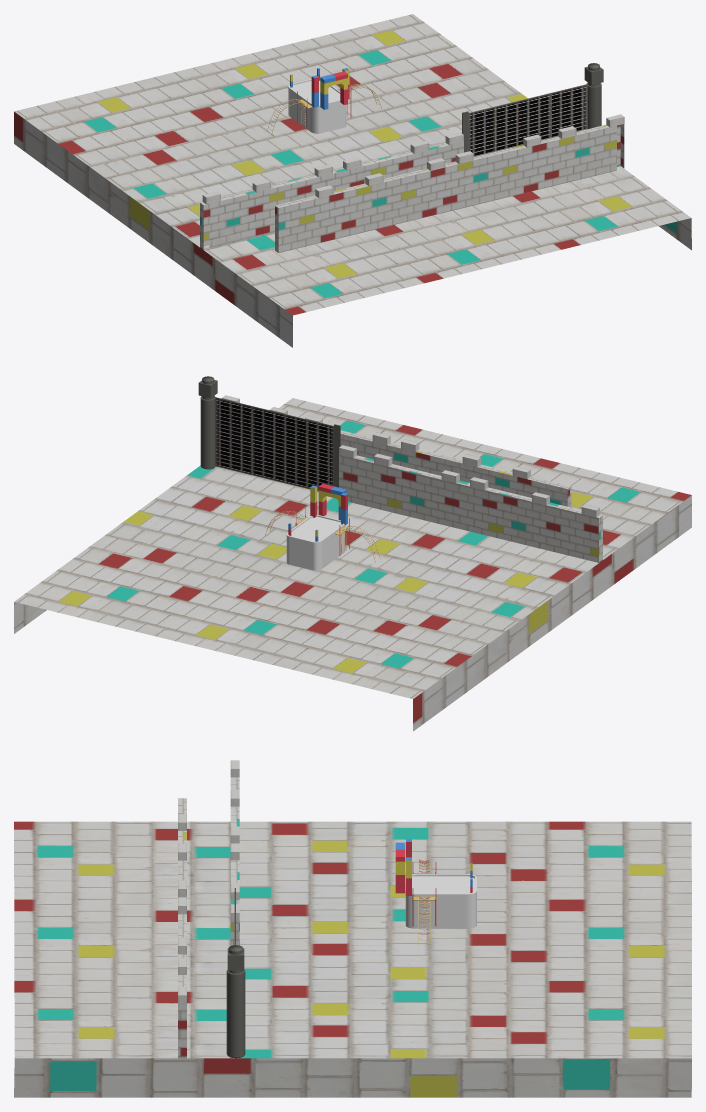
Rendered from san.fbx.
3 renders of one model, top to bottom at view 1: azimuth 30°, elevation 25°; view 2: azimuth 150°, elevation 25°; view 3: azimuth 270°, elevation 25°, orthographic. The views are drawn at different scales.
Parts seen in each view (by area): view 1: phong, tuong nho, cua sat, Combined Mesh (root_ scene) 2, cot cua, Cube, thang; view 2: phong, tuong nho, cua sat, Combined Mesh (root_ scene) 2, cot cua, thang, Cube; view 3: phong, tuong nho, Combined Mesh (root_ scene) 2, cot cua, thang, Cube.
Part boxes in pixels (x1=…): phong: x1=14, y1=14, x2=691, y2=347; tuong nho: x1=200, y1=114, x2=624, y2=252; cua sat: x1=462, y1=84, x2=587, y2=156; Combined Mesh (root_ scene) 2: x1=288, y1=78, x2=346, y2=133; cot cua: x1=584, y1=63, x2=603, y2=128; Cube: x1=320, y1=71, x2=347, y2=109; thang: x1=266, y1=84, x2=381, y2=135; phong: x1=14, y1=398, x2=691, y2=731; tuong nho: x1=221, y1=395, x2=602, y2=562; cua sat: x1=215, y1=397, x2=340, y2=491; Combined Mesh (root_ scene) 2: x1=286, y1=515, x2=344, y2=570; cot cua: x1=198, y1=376, x2=217, y2=469; thang: x1=265, y1=507, x2=380, y2=562; Cube: x1=318, y1=483, x2=346, y2=520; phong: x1=14, y1=821, x2=691, y2=1097; tuong nho: x1=178, y1=760, x2=239, y2=1058; Combined Mesh (root_ scene) 2: x1=405, y1=874, x2=476, y2=928; cot cua: x1=226, y1=945, x2=245, y2=1058; thang: x1=412, y1=859, x2=436, y2=945; Cube: x1=395, y1=842, x2=405, y2=893.
Size of the model in its own units: 3463 by 992 by 4192.
